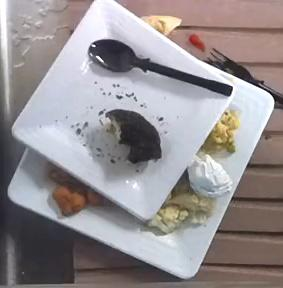carrots: (49, 167, 105, 216)
cauliflower: (148, 192, 215, 233), (200, 110, 240, 154)
donut: (100, 109, 161, 163)
